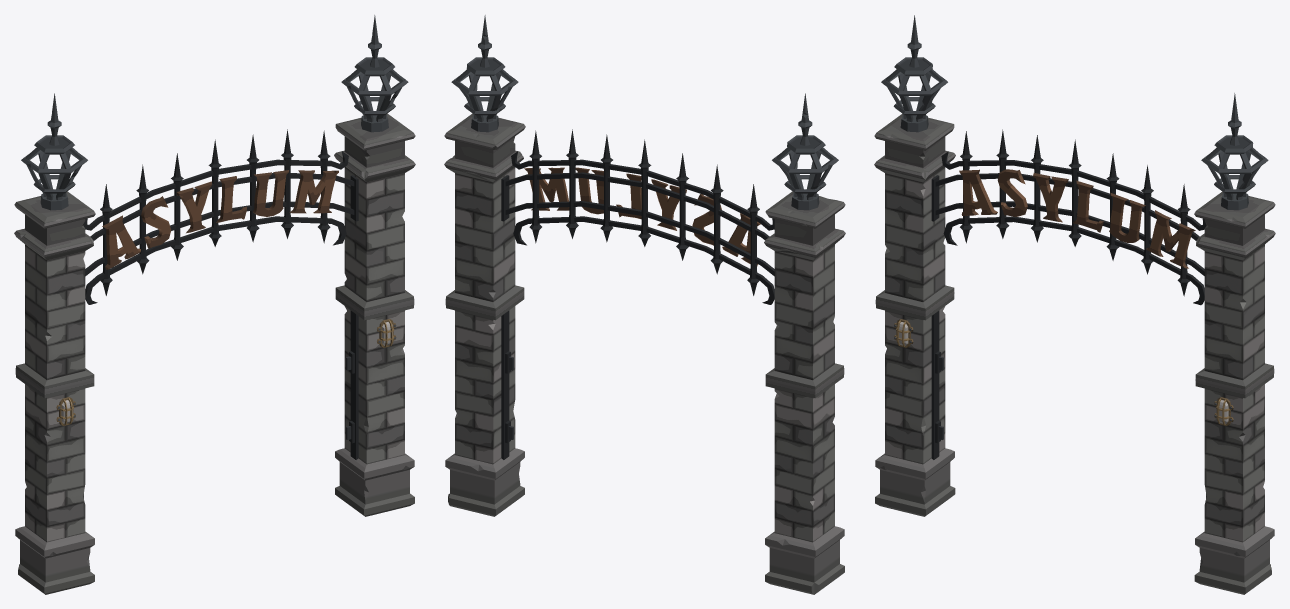
File: SM_Bld_Fence_Arch_01.fbx
3 renders of one model, left to right at view 1: azimuth 30°, elevation 25°; view 2: azimuth 150°, elevation 25°; view 3: azimuth 330°, elevation 25°, orthographic.
Parts seen in each view (by area): view 1: SM_Bld_Fence_Arch_01; view 2: SM_Bld_Fence_Arch_01; view 3: SM_Bld_Fence_Arch_01.
Boxes of the visible parts, x1,y1,x2,y2 form: SM_Bld_Fence_Arch_01: [14, 15, 415, 594]; SM_Bld_Fence_Arch_01: [444, 15, 845, 594]; SM_Bld_Fence_Arch_01: [874, 15, 1275, 594].
Size of the model in its own units: 519 by 651 by 81.73.
